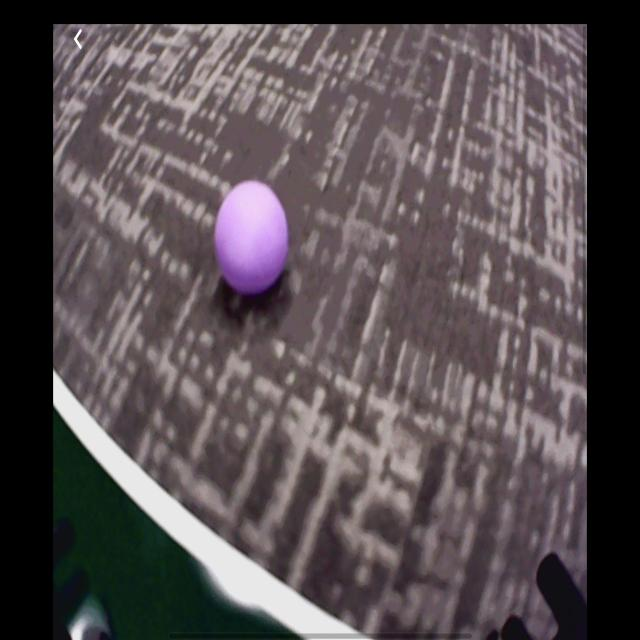ball: (214, 182, 289, 293)
